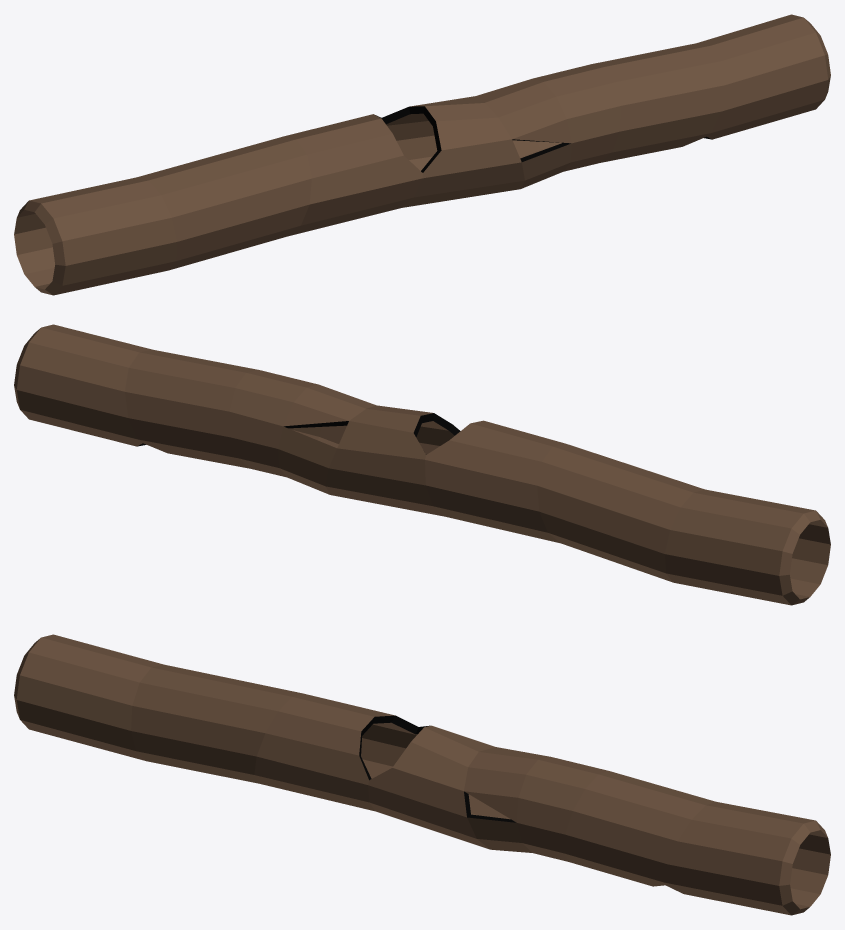
File: LogWithCracks.fbx
3 renders of one model, top to bottom at view 1: azimuth 30°, elevation 25°; view 2: azimuth 150°, elevation 25°; view 3: azimuth 330°, elevation 25°, orthographic.
Visible parts, largest first — view 1: Cylinder.019; view 2: Cylinder.019; view 3: Cylinder.019.
Boxes of the visible parts, x1=… form: Cylinder.019: x1=14, y1=14, x2=830, y2=295; Cylinder.019: x1=14, y1=324, x2=830, y2=605; Cylinder.019: x1=14, y1=634, x2=830, y2=915.
Bounding box in the file's own units: 1826 × 223 × 218.
